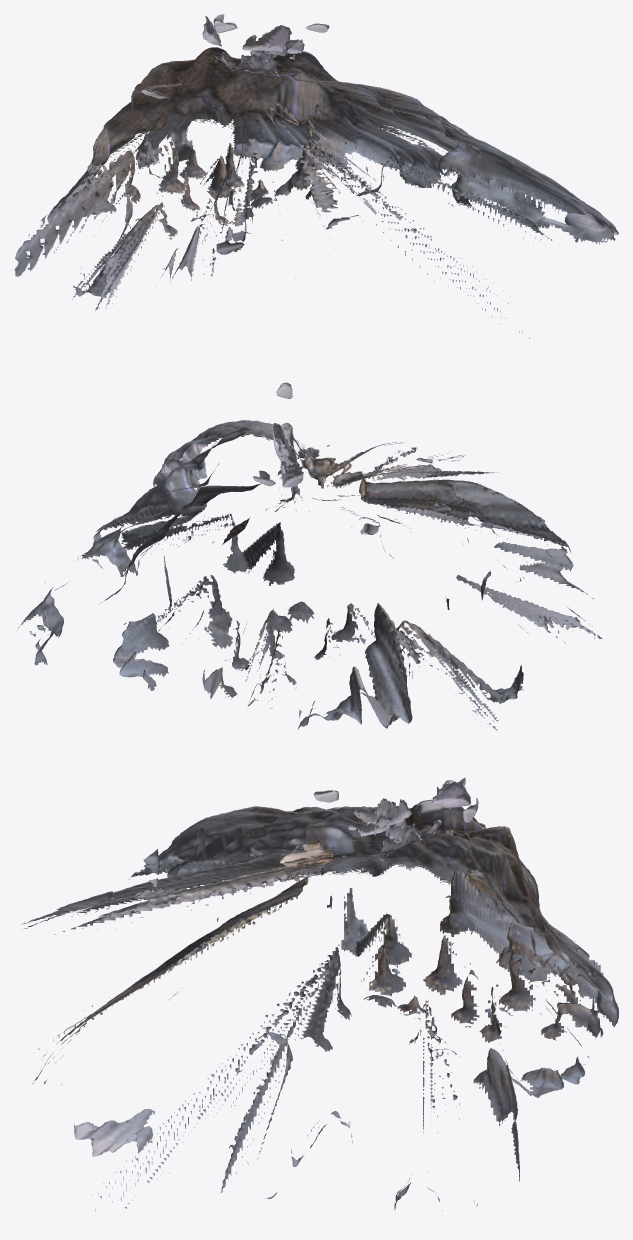
Rendered from world_collider.glb.
3 views of the same model, one above another, from view 1: azimuth 30°, elevation 25°; view 2: azimuth 150°, elevation 25°; view 3: azimuth 270°, elevation 25° (orthographic). The views are drawn at different scales.
Parts seen in each view (by area): view 1: world; view 2: world; view 3: world.
Boxes of the visible parts, x1=… form: world: x1=14, y1=14, x2=618, y2=338; world: x1=18, y1=382, x2=602, y2=730; world: x1=22, y1=777, x2=618, y2=1212.
Bounding box in the file's own units: 33.07 × 19.31 × 29.36.
